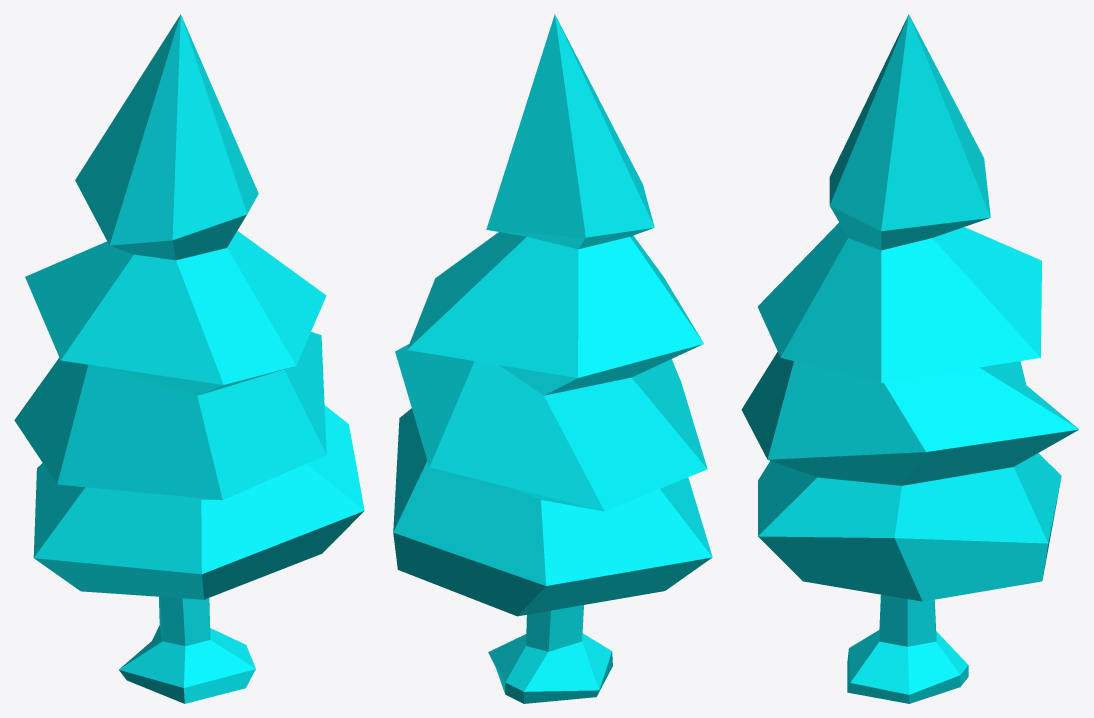
File: forestpack_tree_fir_tall_meshCollider.FBX
The picture shows the model from 3 angles, left to right: view 1: azimuth 30°, elevation 25°; view 2: azimuth 150°, elevation 25°; view 3: azimuth 270°, elevation 25°; orthographic projection.
Parts seen in each view (by area): view 1: forestpack_tree_fir_tall_meshCollider; view 2: forestpack_tree_fir_tall_meshCollider; view 3: forestpack_tree_fir_tall_meshCollider.
Boxes of the visible parts, x1,y1,x2,y2 form: forestpack_tree_fir_tall_meshCollider: (14, 14, 364, 703); forestpack_tree_fir_tall_meshCollider: (393, 14, 712, 703); forestpack_tree_fir_tall_meshCollider: (741, 14, 1078, 703).
Bounding box in the file's own units: 176 × 356 × 165.
